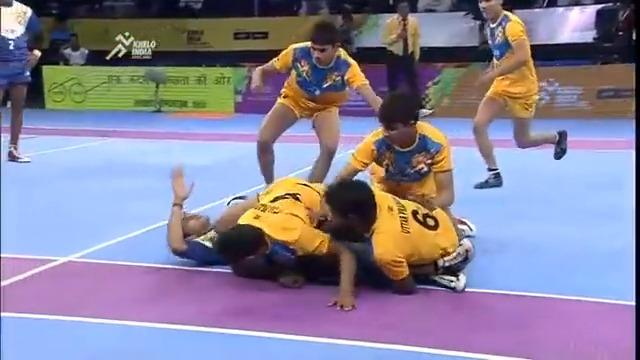Player: (249, 20, 383, 187), (334, 89, 470, 241), (321, 177, 475, 311), (470, 0, 568, 189), (213, 175, 339, 288), (166, 164, 264, 266), (0, 0, 44, 163)
referee: (379, 0, 427, 117), (590, 2, 635, 64), (37, 10, 76, 65)
